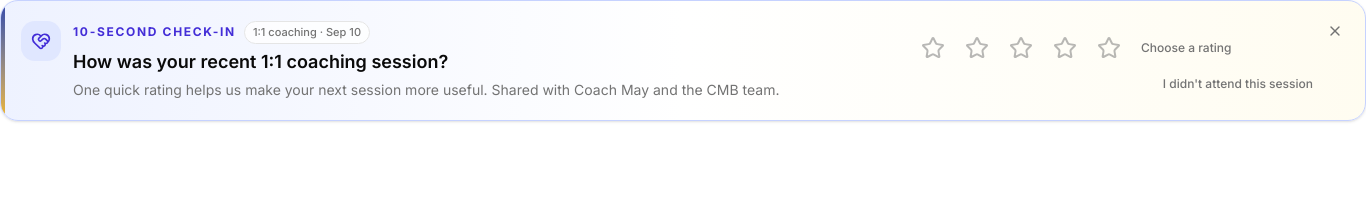
Scenario: SessionFeedbackPrompt › records one impression and submits a low-friction rating with an optional note
Check: the heading "How was your recent 1:1 coaching session?" is shown, box [73,50,448,72]
Click the button named "5 out of 5" at (1109, 48), box [1089,28,1129,68]
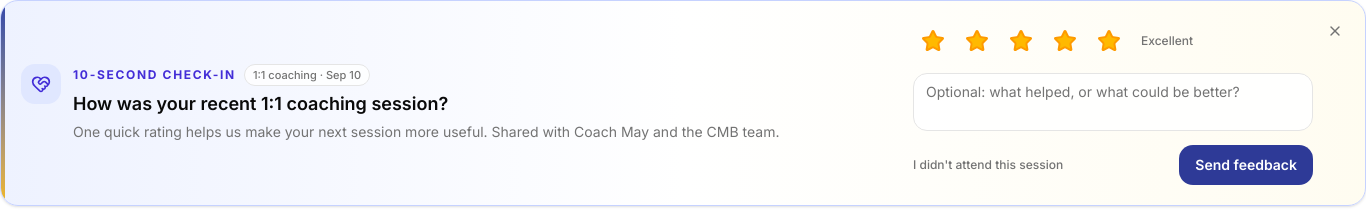
Type "The live examples were very helpful." into the text box named "Optional feedback about this coaching session" at (1113, 102), box [913,73,1313,131]
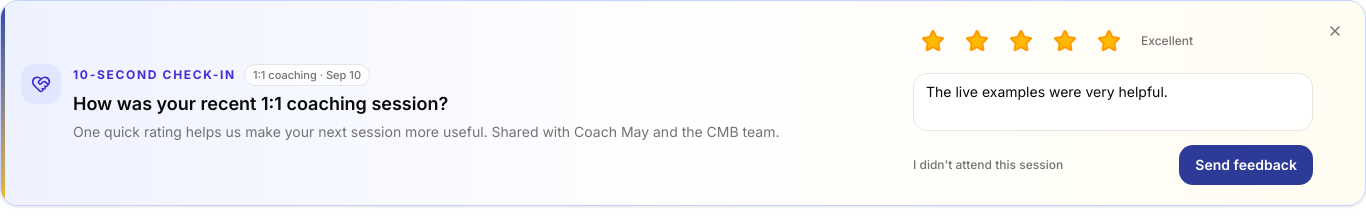
Click the button "Send feedback" at (1246, 165), box [1179,145,1313,185]
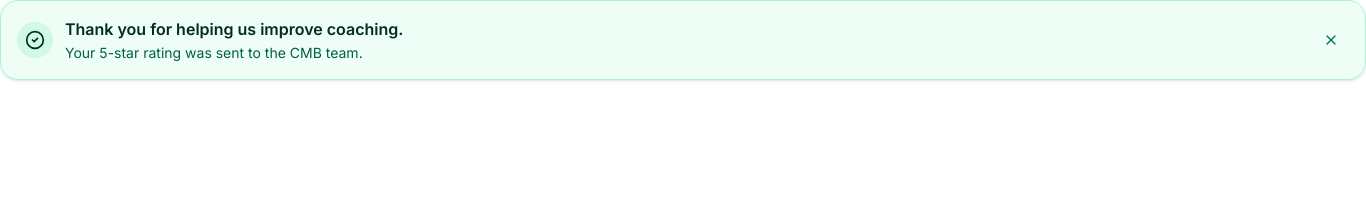
Check: the text "Thank you for helping us improve coaching." is shown, box [65,19,403,39]
